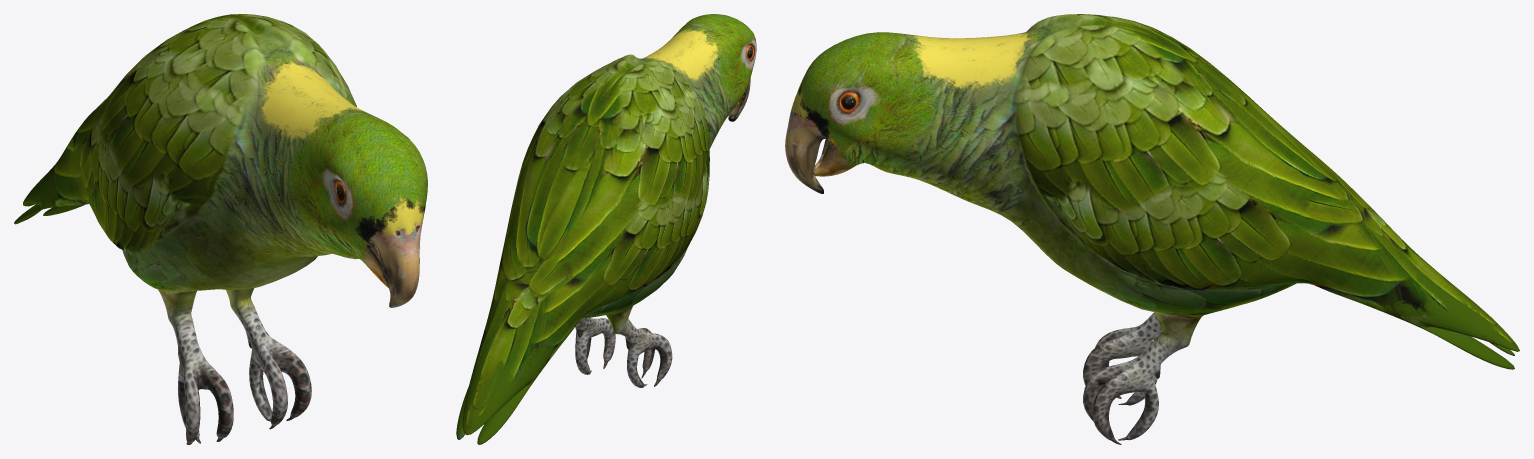
File: LoraNucaAmarilla-processed.glb
The picture shows the model from 3 angles, left to right: view 1: azimuth 30°, elevation 25°; view 2: azimuth 150°, elevation 25°; view 3: azimuth 270°, elevation 25°; orthographic projection. The views are drawn at different scales.
Parts seen in each view (by area): view 1: LoraNucaAmarilla; view 2: LoraNucaAmarilla; view 3: LoraNucaAmarilla.
Boxes of the visible parts, left/top/right/bottom form: LoraNucaAmarilla: left=14, top=14, right=427, bottom=444; LoraNucaAmarilla: left=456, top=14, right=756, bottom=444; LoraNucaAmarilla: left=785, top=14, right=1519, bottom=444.
Size of the model in its own units: 1.03 by 1.95 by 3.24.
1 material, 1 textured.
